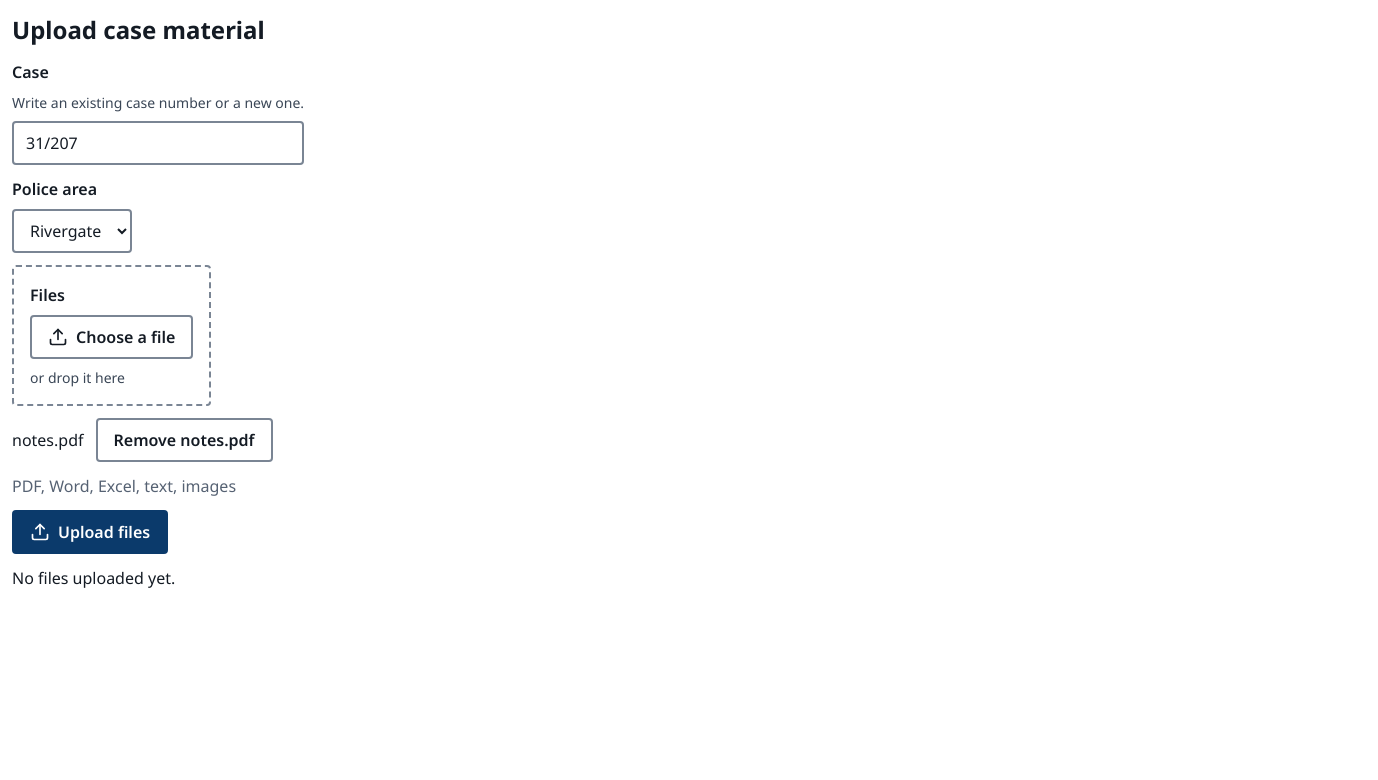
Test: uploading sends the case number, the area and the files as a form
Earlier steps of the test are not shown.
Later steps or results of the test are not shown.
What coordinates should you click on to do the following:
click the button "Upload files"
I would click on:
 (90, 532)
Its box is top-left (12, 510), bottom-right (168, 554).
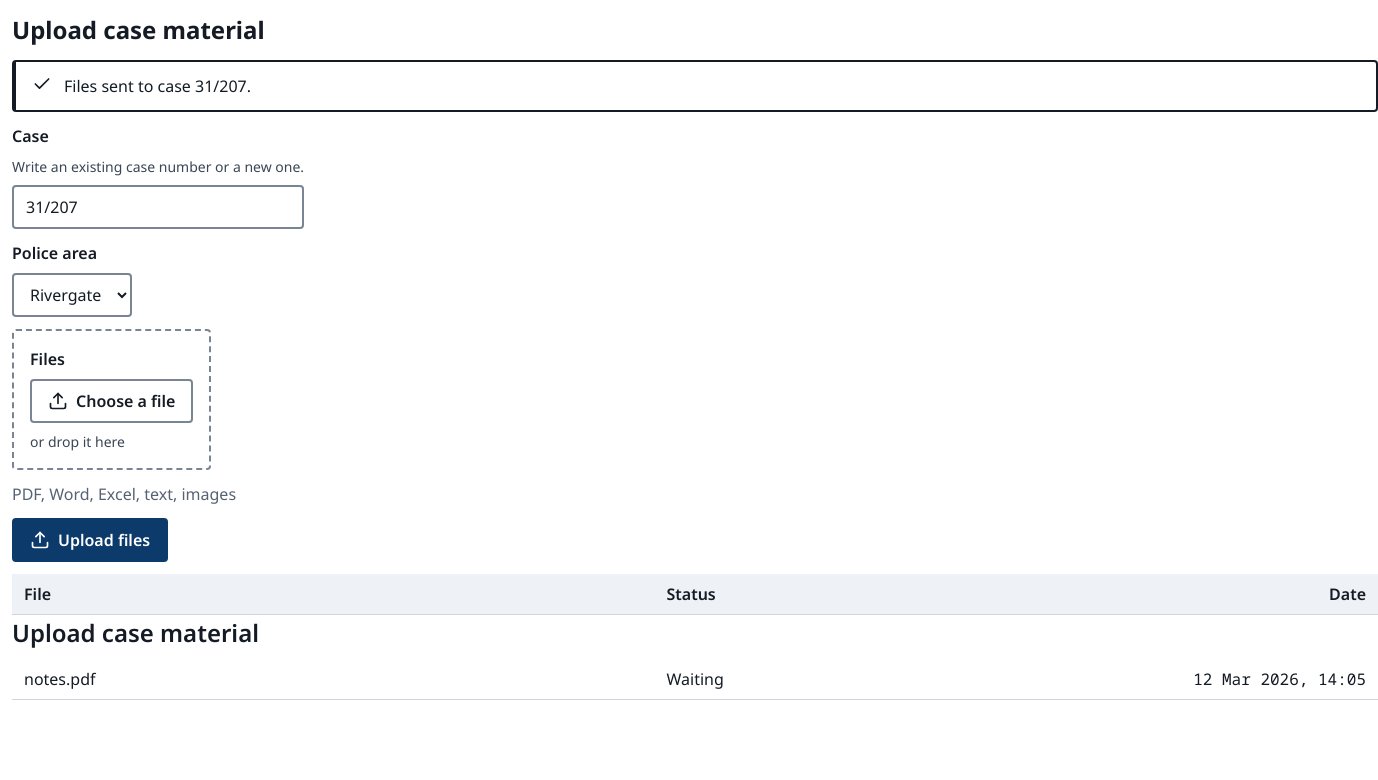
Check: the text "Files sent to case 31/207." is shown, box top-left (64, 75), bottom-right (251, 97)
